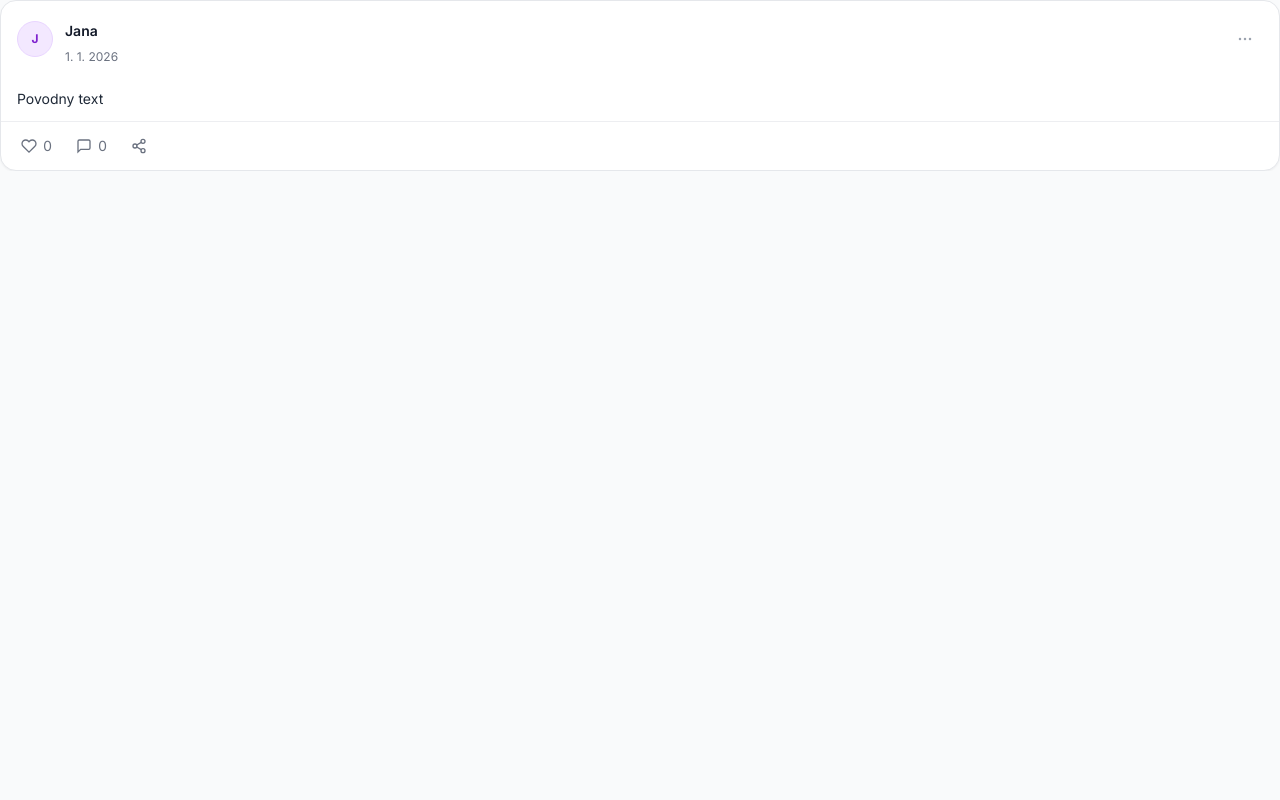
úprava textu › saves the new caption and shows it without a reload
The width and height of the screenshot is (1280, 800).
Click the button with test id "feed-post-menu-trigger": (1245, 39) [1227,21,1263,57]
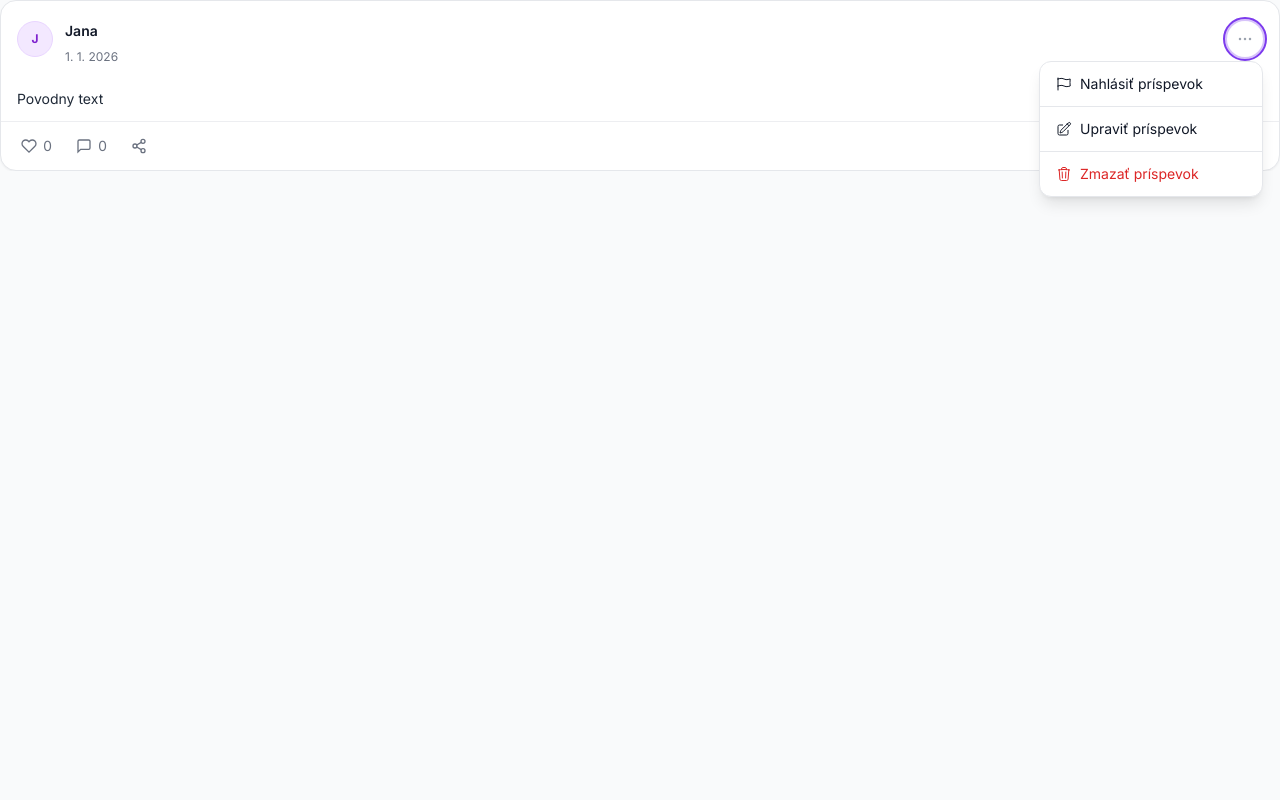
Click the menu item with test id "feed-post-edit": (1151, 128) [1040,106,1262,151]
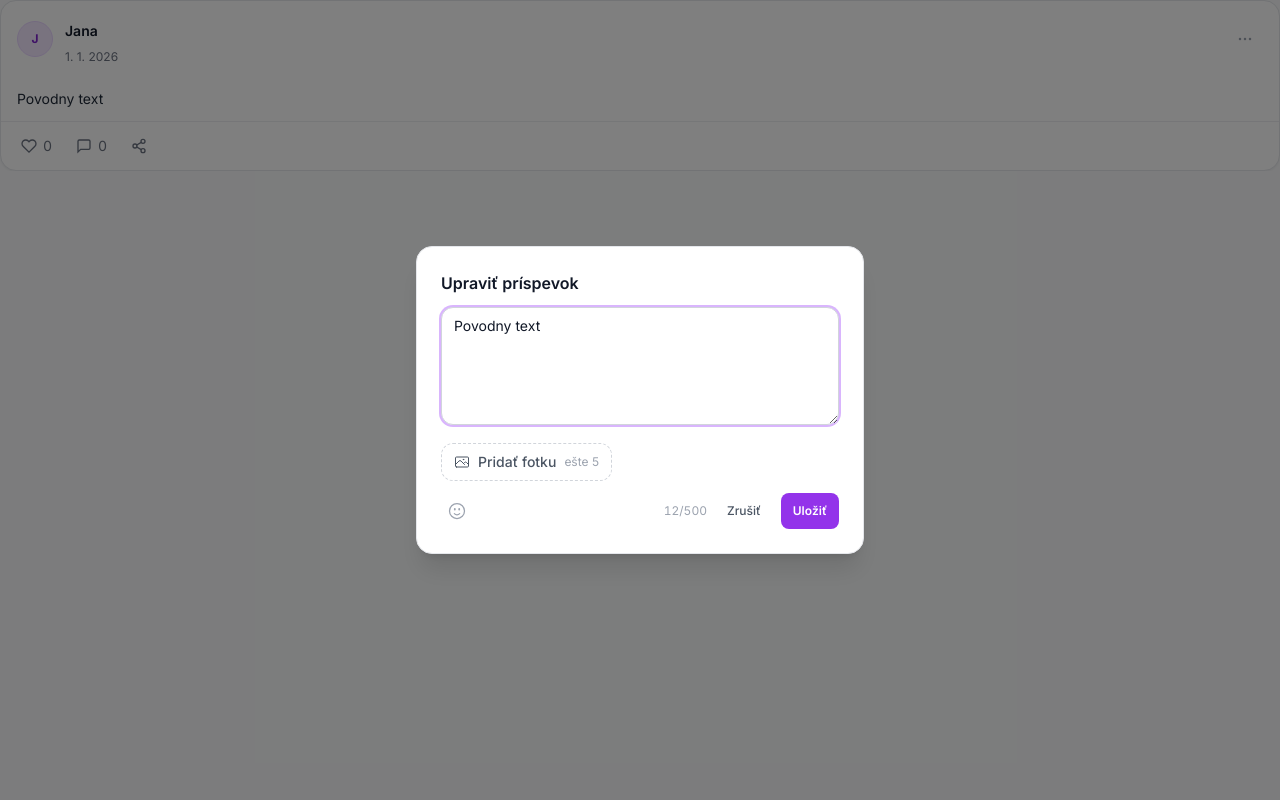
Expected: the text box with test id "feed-post-edit-input" holds "Povodny text"
Replace the text in the text box with test id "feed-post-edit-input" with "Novy text": (640, 366) [441,307,839,425]
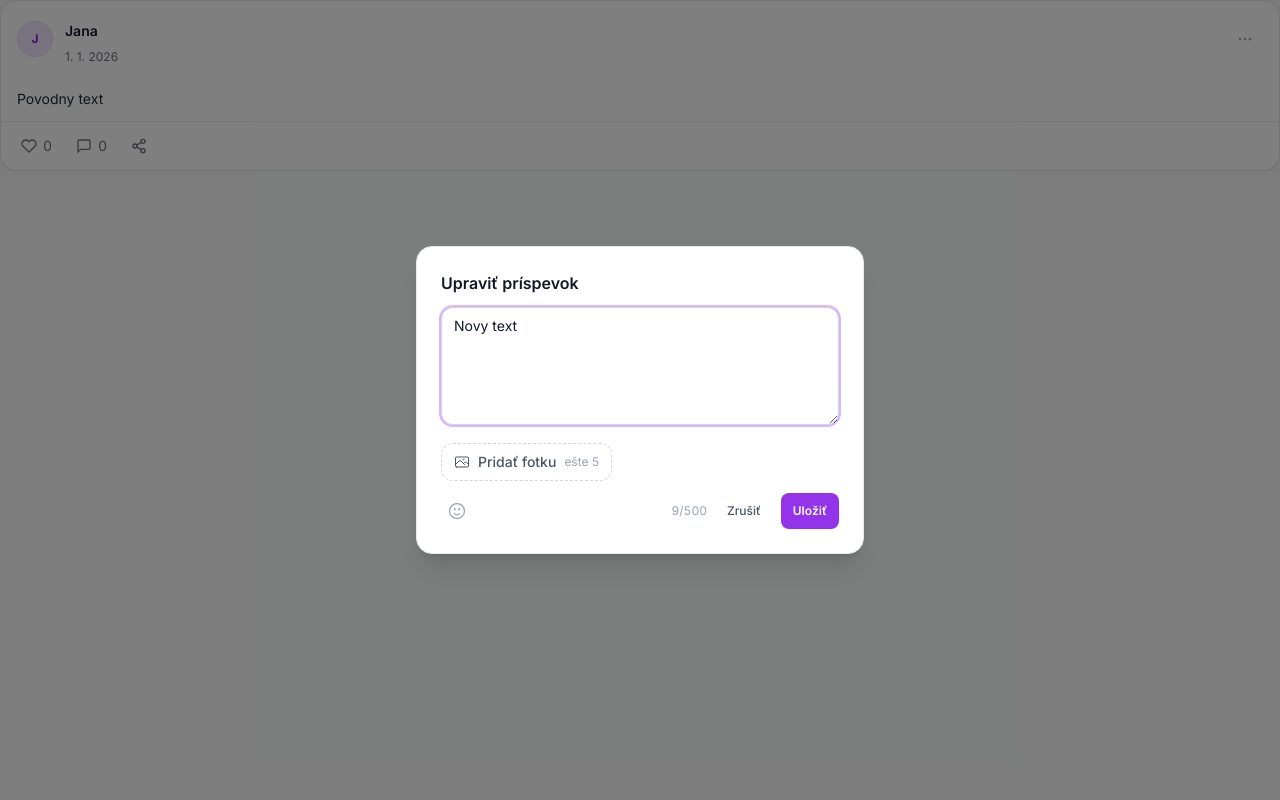
Click the button with test id "feed-post-edit-submit": (810, 511) [781,493,839,529]
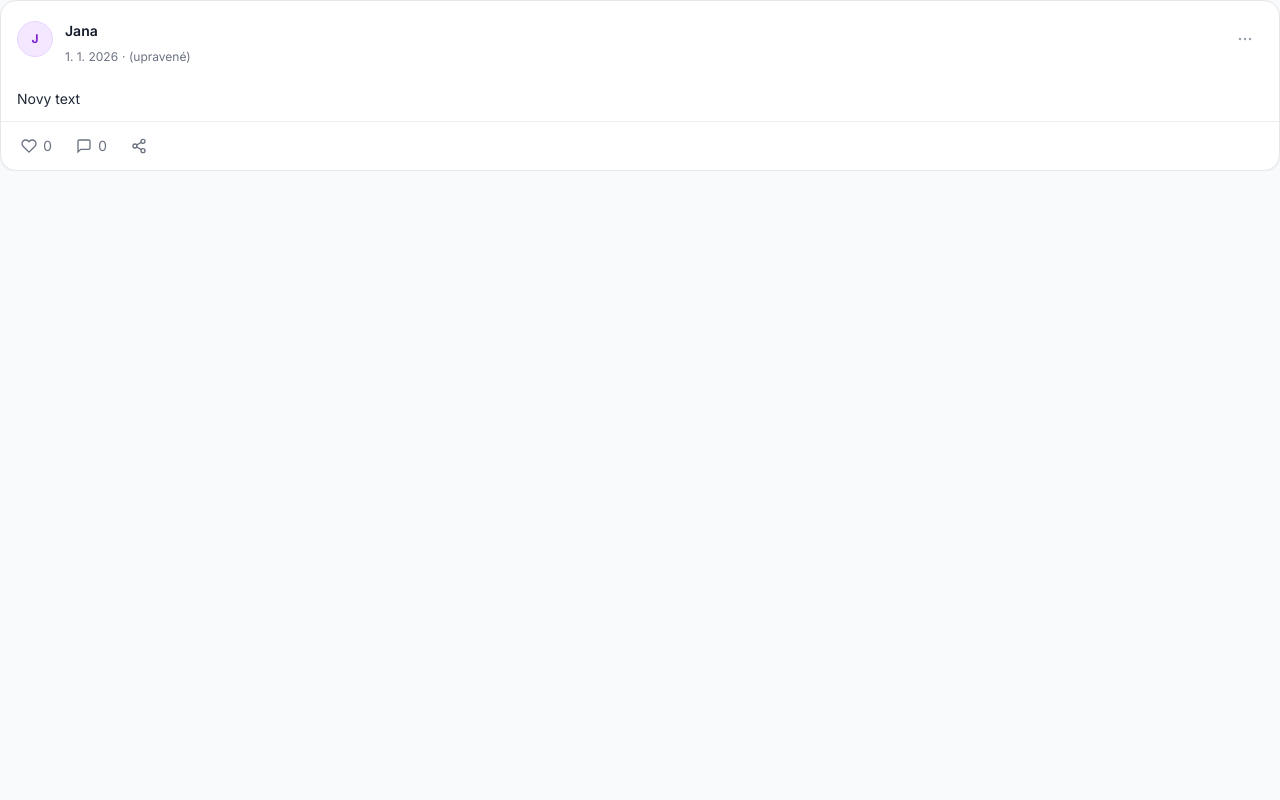
Expected: the text "Novy text" is shown, [17,90,80,107]
Expected: the text "Povodny text" is gone
Expected: the dialog with test id "feed-post-edit-modal" is gone
